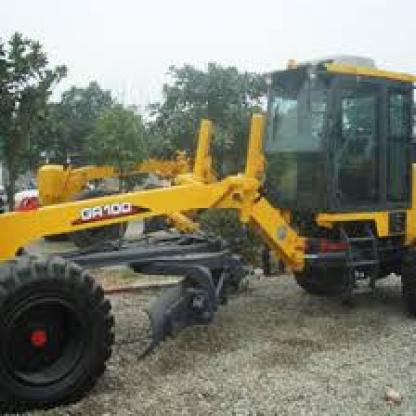bull_dozer/loader/grader: (6, 56, 414, 414)
